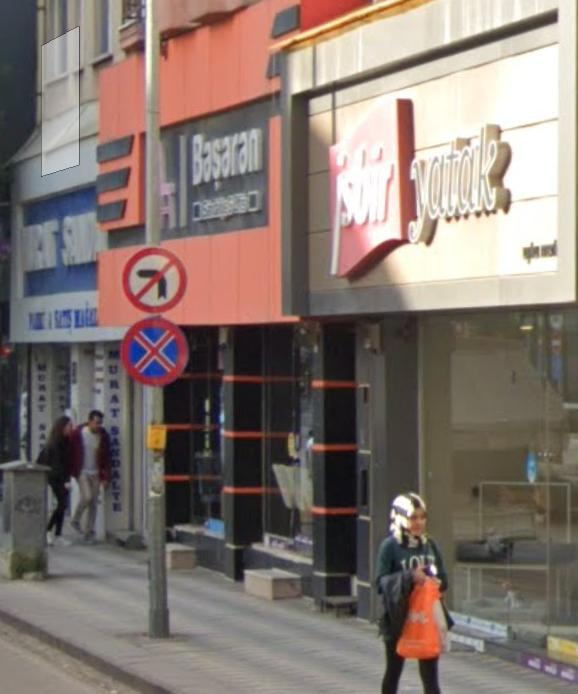rightturnsareforbidden: (127, 251, 182, 311)
